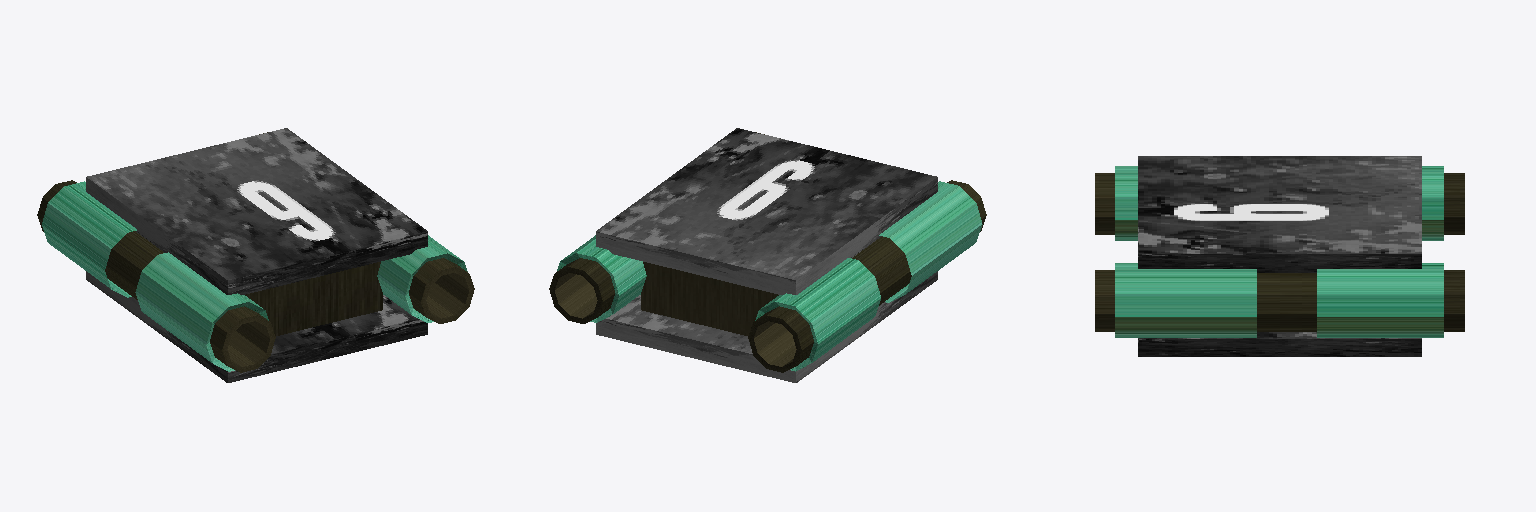
The picture shows the model from 3 angles: view 1: azimuth 30°, elevation 25°; view 2: azimuth 150°, elevation 25°; view 3: azimuth 270°, elevation 25°; orthographic projection.
Parts seen in each view (by area): view 1: pCube3, pPipe2, pCube2, pCube4, pPipe1; view 2: pCube3, pPipe2, pCube2, pCube4, pPipe1; view 3: pCube3, pPipe1, pPipe2, pCube2.
Part boxes in pixels (bbox=[...]): pCube3: bbox=[86, 128, 427, 294]; pPipe2: bbox=[37, 180, 275, 372]; pCube2: bbox=[86, 271, 427, 382]; pCube4: bbox=[245, 262, 382, 335]; pPipe1: bbox=[259, 132, 474, 323]; pCube3: bbox=[596, 128, 937, 294]; pPipe2: bbox=[748, 180, 986, 372]; pCube2: bbox=[596, 271, 937, 382]; pCube4: bbox=[641, 262, 778, 335]; pPipe1: bbox=[549, 132, 764, 323]; pCube3: bbox=[1138, 156, 1421, 272]; pPipe1: bbox=[1095, 263, 1464, 337]; pPipe2: bbox=[1095, 166, 1464, 240]; pCube2: bbox=[1138, 332, 1421, 356].
Size of the model in its own units: 7.19 by 2.68 by 8.7.
7 materials, 4 textured.